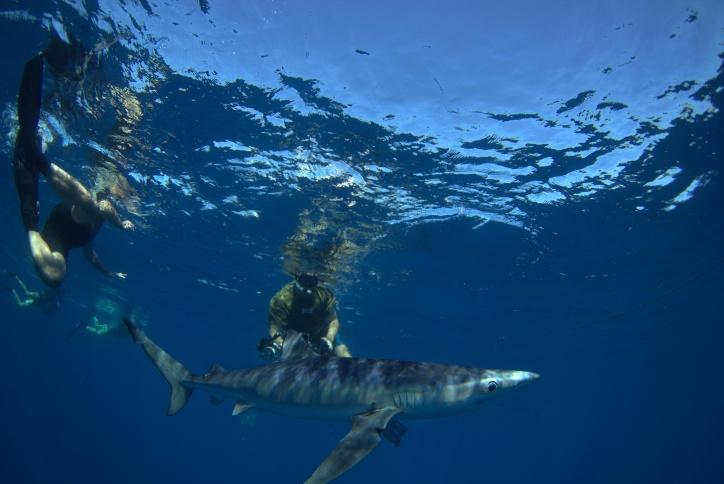Azul: (106, 301, 573, 484)
